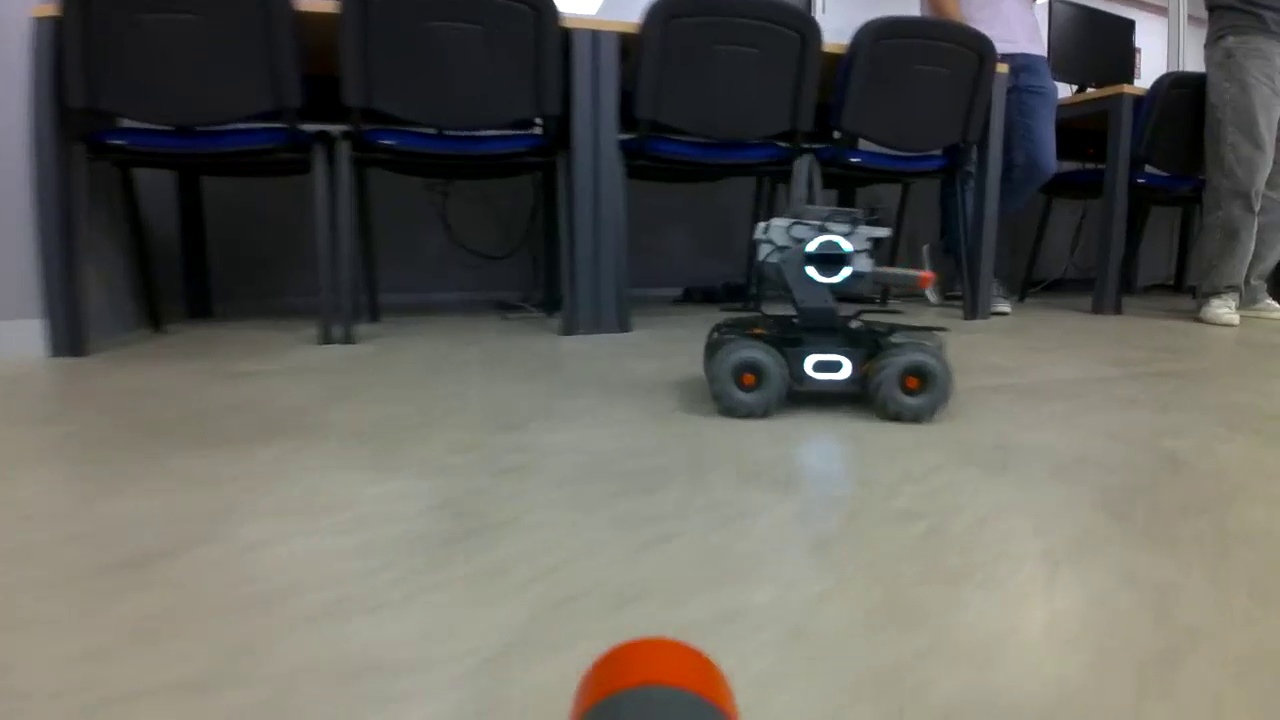robot: (701, 202, 954, 428)
